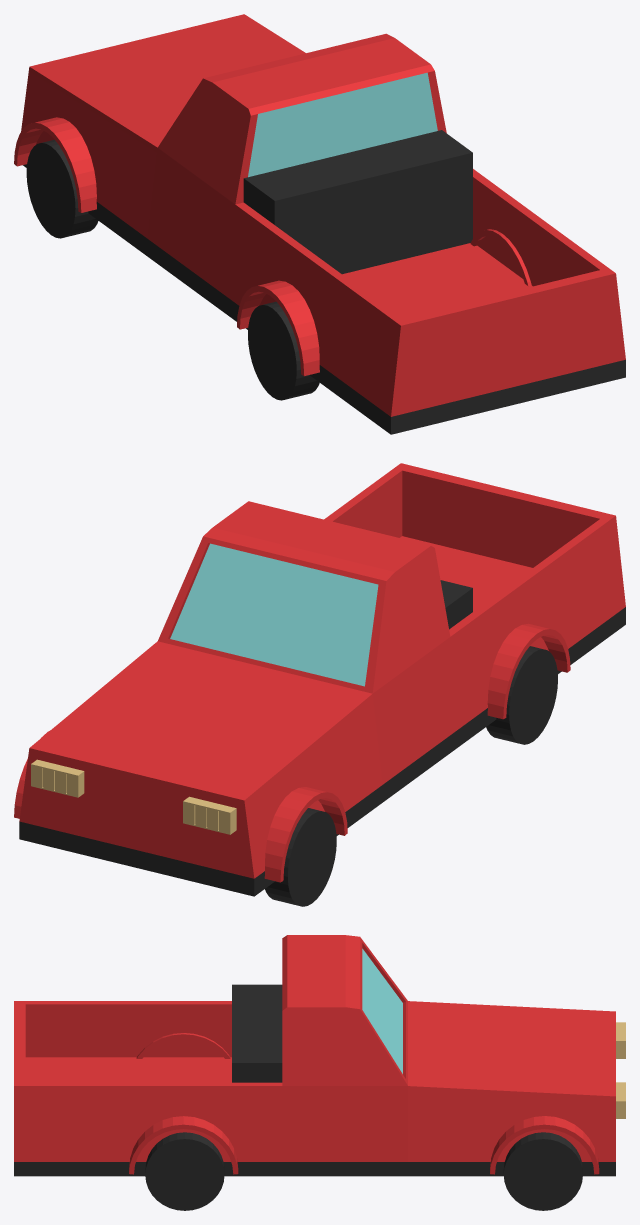
Rendered from Truck.fbx.
The picture shows the model from 3 angles, top to bottom: view 1: azimuth 30°, elevation 25°; view 2: azimuth 150°, elevation 25°; view 3: azimuth 270°, elevation 25°; orthographic projection. The views are drawn at different scales.
Parts seen in each view (by area): view 1: Truck; view 2: Truck; view 3: Truck.
Boxes of the visible parts, x1=… form: Truck: x1=14, y1=14, x2=625, y2=434; Truck: x1=14, y1=463, x2=625, y2=906; Truck: x1=14, y1=935, x2=625, y2=1210.
Bounding box in the file's own units: 628 × 524 × 1543.
